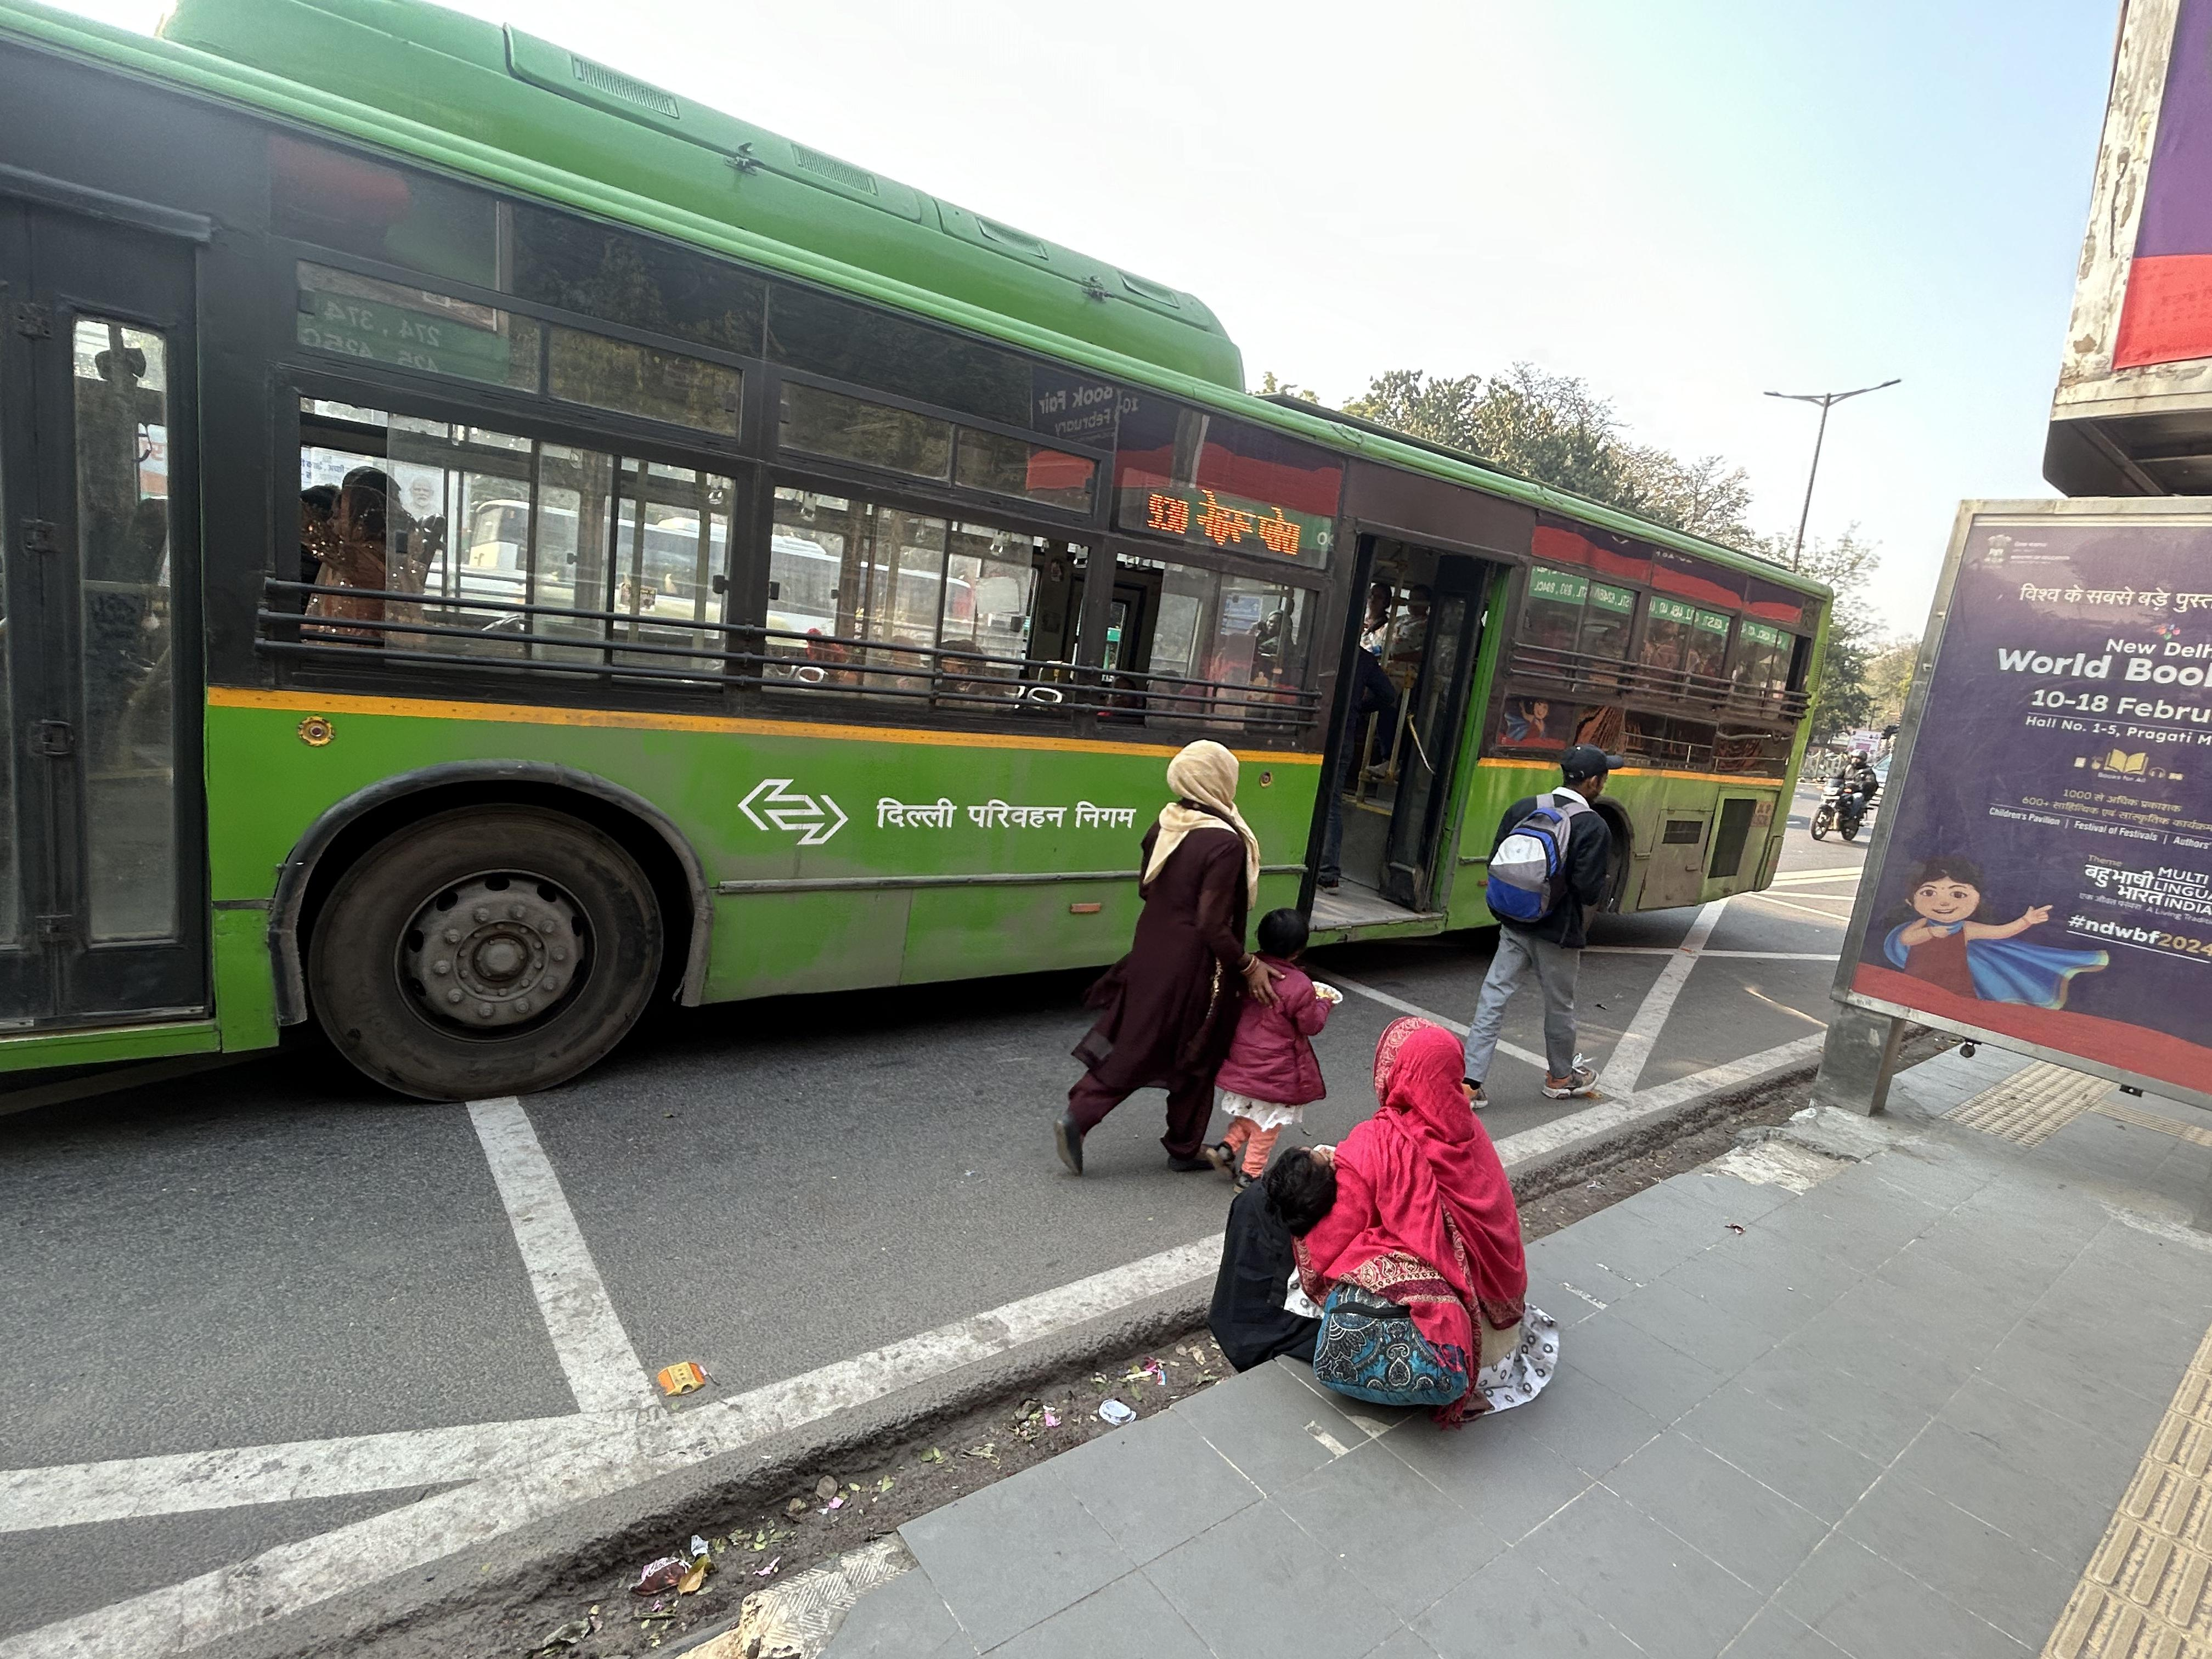Bus: (0, 5, 1860, 1086)
Display Board: (1125, 455, 1404, 582)
